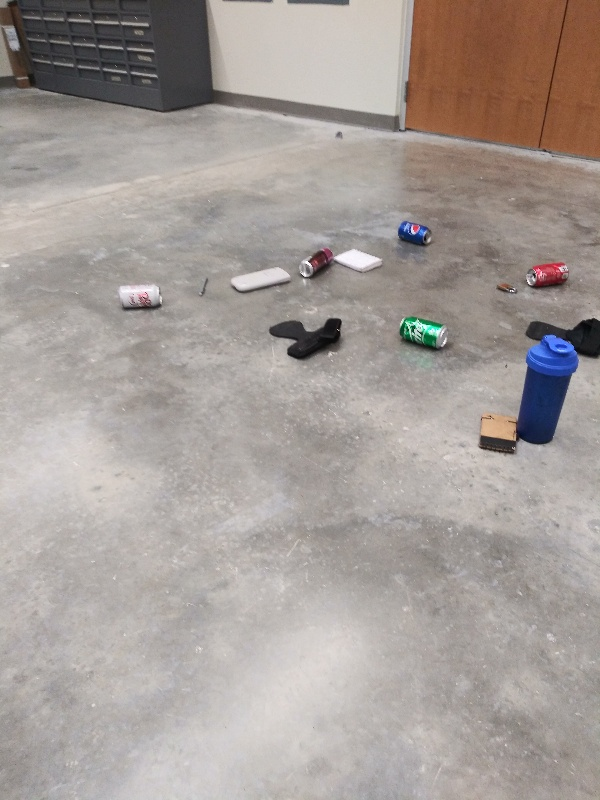can: (394, 312, 450, 353), (114, 282, 167, 311), (525, 260, 573, 290), (296, 246, 337, 279), (395, 219, 437, 247)
